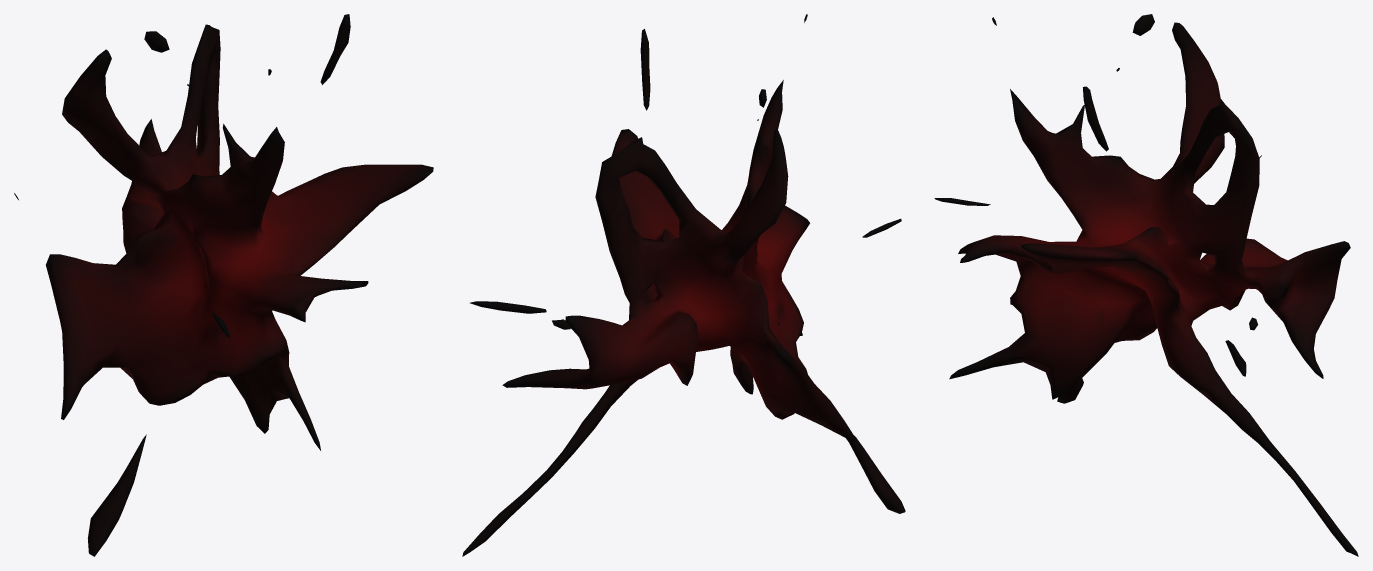
File: SM_VFX_Non_Directional_Splatter.fbx
3 renders of one model, left to right at view 1: azimuth 30°, elevation 25°; view 2: azimuth 150°, elevation 25°; view 3: azimuth 270°, elevation 25°, orthographic. The views are drawn at different scales.
Visible parts, largest first — view 1: SM_VFX_Non_Directional_Splatter; view 2: SM_VFX_Non_Directional_Splatter; view 3: SM_VFX_Non_Directional_Splatter.
Boxes of the visible parts, left/top/right/bottom form: SM_VFX_Non_Directional_Splatter: left=14, top=14, right=433, bottom=556; SM_VFX_Non_Directional_Splatter: left=462, top=14, right=905, bottom=556; SM_VFX_Non_Directional_Splatter: left=934, top=14, right=1358, bottom=556.
Size of the model in its own units: 89.22 by 111 by 93.31.
